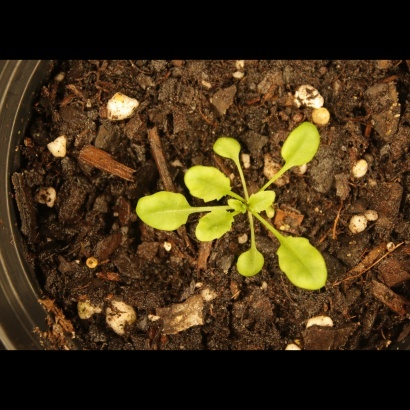leaf: (273, 230, 333, 300), (131, 191, 195, 235), (279, 117, 323, 172), (178, 160, 236, 201), (194, 210, 244, 246), (233, 246, 266, 280), (210, 135, 246, 164), (246, 186, 280, 216)
